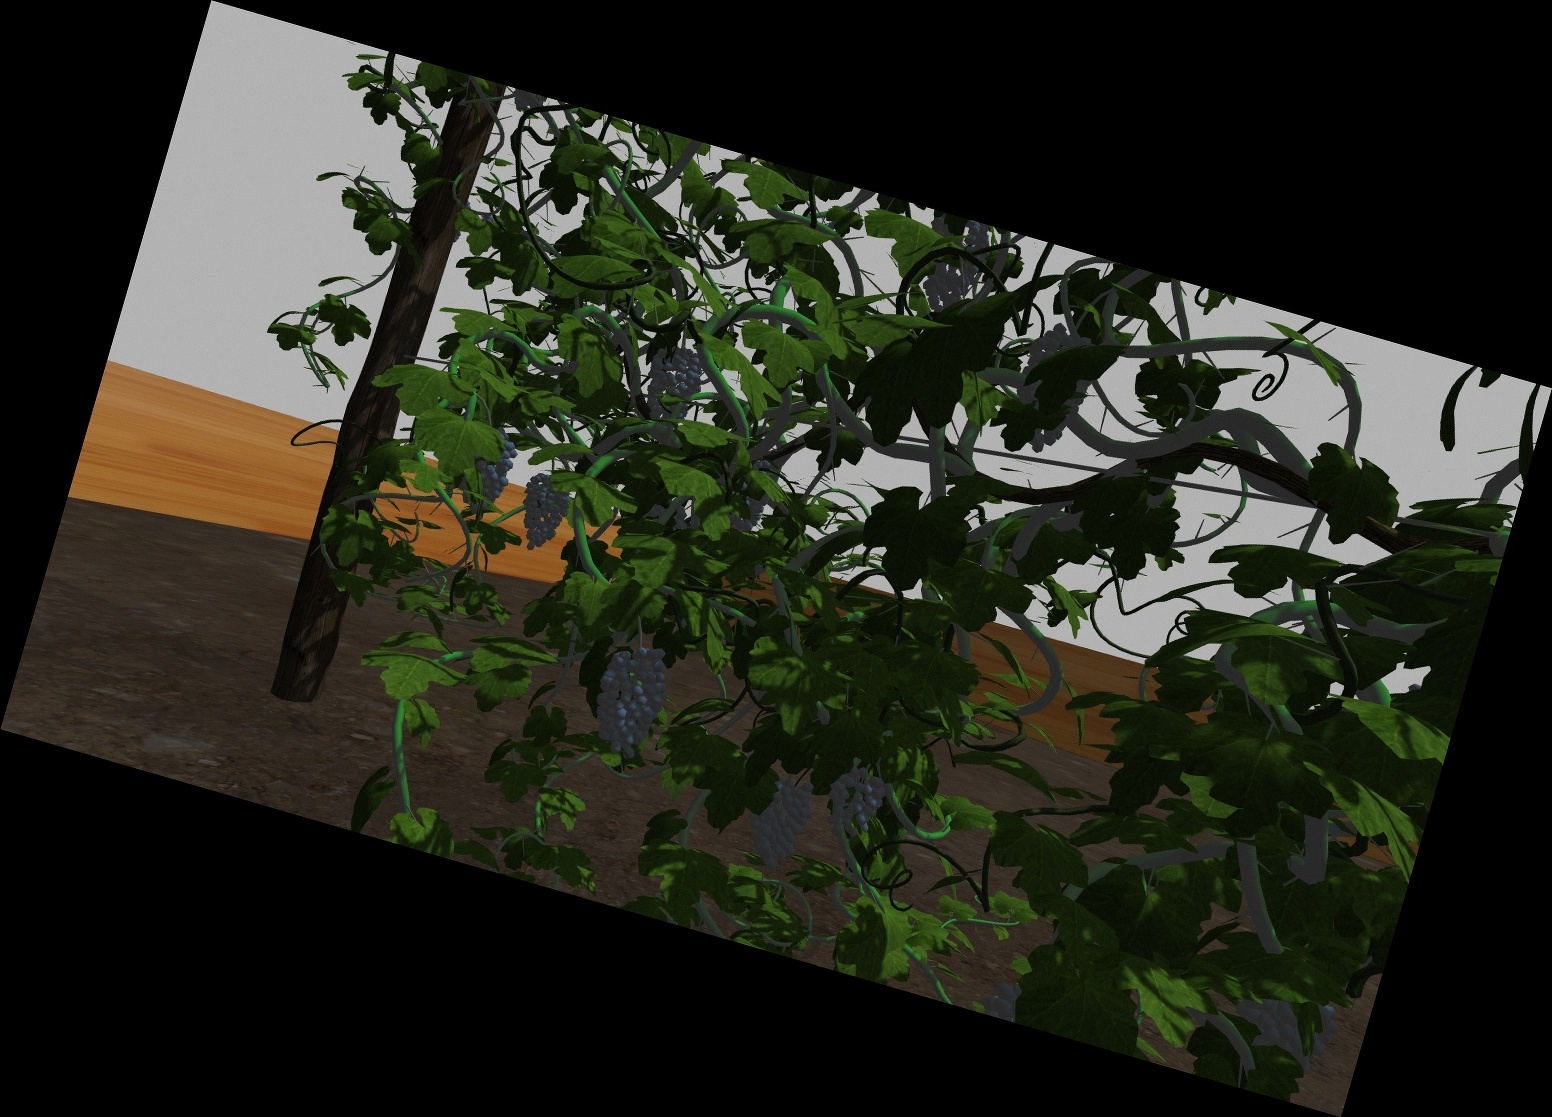grape: (595, 643, 662, 756), (749, 778, 810, 869), (649, 345, 704, 421), (828, 765, 884, 837), (464, 433, 512, 511), (521, 474, 566, 549)
